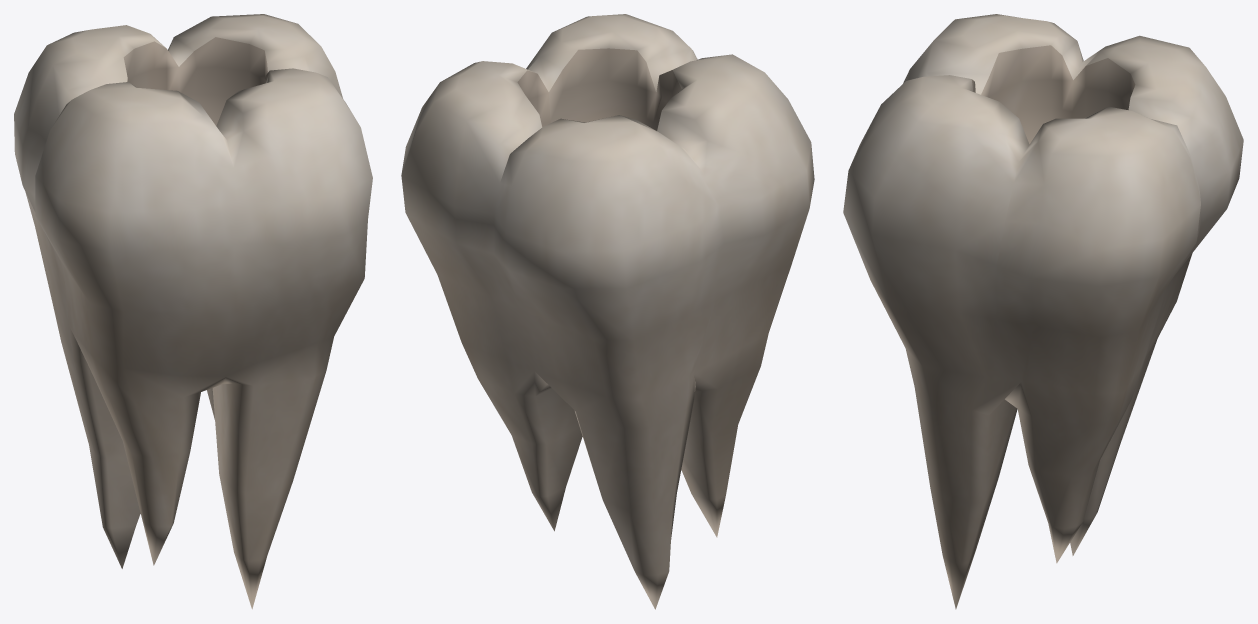
File: L_Molar_4_Hole.fbx
3 views of the same model, side by side, from view 1: azimuth 30°, elevation 25°; view 2: azimuth 150°, elevation 25°; view 3: azimuth 270°, elevation 25° (orthographic). The views are drawn at different scales.
Parts seen in each view (by area): view 1: Unfilled_Molar; view 2: Unfilled_Molar; view 3: Unfilled_Molar.
Boxes of the visible parts, left/top/right/bottom form: Unfilled_Molar: left=14, top=14, right=372, bottom=609; Unfilled_Molar: left=401, top=14, right=814, bottom=609; Unfilled_Molar: left=843, top=14, right=1243, bottom=609.
Bounding box in the file's own units: 128 × 189 × 128.
